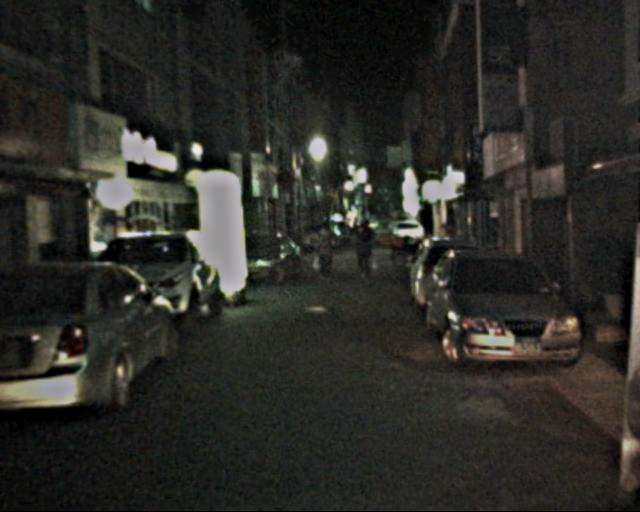person: (349, 217, 376, 282), (310, 222, 336, 286)
